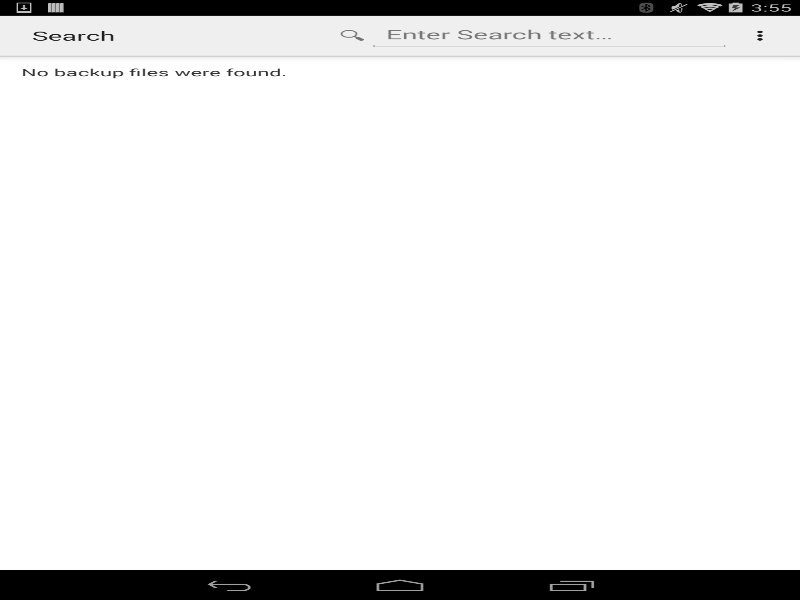Input: (375, 23, 723, 46)
